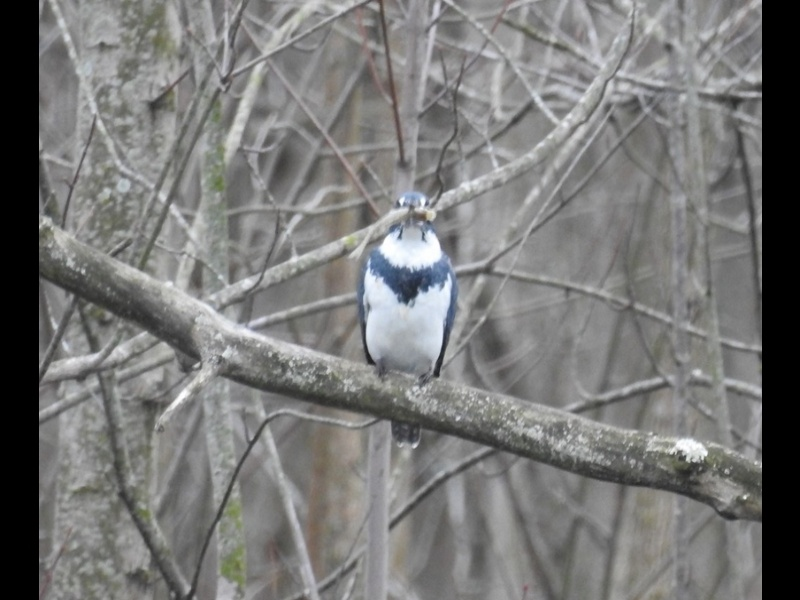kingfisher: (357, 190, 460, 395)
